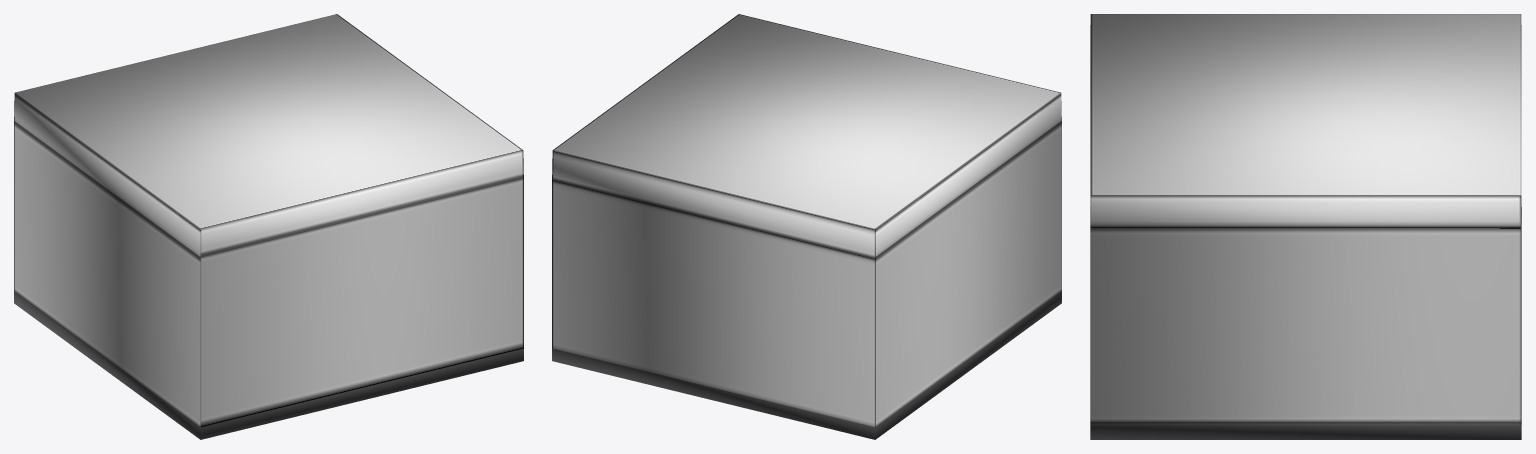
File: PlataformaCuadradaLoop.fbx
The picture shows the model from 3 angles, left to right: view 1: azimuth 30°, elevation 25°; view 2: azimuth 150°, elevation 25°; view 3: azimuth 270°, elevation 25°; orthographic projection. The views are drawn at different scales.
Parts seen in each view (by area): view 1: Plane; view 2: Plane; view 3: Plane.
Part boxes in pixels (<box>): Plane: <box>14,14,523,439</box>; Plane: <box>552,14,1061,439</box>; Plane: <box>1090,14,1521,439</box>.
Bounding box in the file's own units: 200 × 125 × 200.
3 materials, 3 textured.
